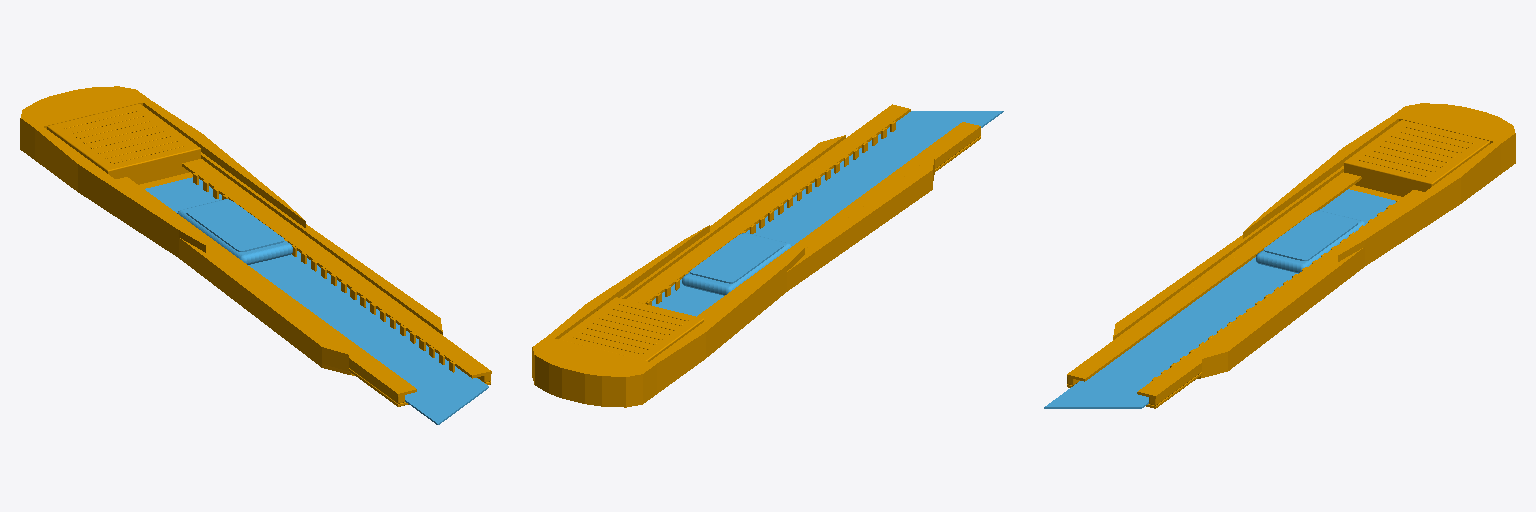
The robot description file, URDF, robot "101052":
<?xml version='1.0' encoding='utf-8'?>
<robot name="101052">
  <link name="fixed_root">
    <visual name="fixed_root_visual">
      <origin xyz="0 0 0" rpy="0 0 0" />
      <geometry>
        <mesh filename="meshes/fixed_root.obj" />
      </geometry>
    </visual>
  </link>
  <link name="link_blade_slider_translation">
    <visual name="link_blade_slider_translation_visual">
      <origin xyz="0 0 0" rpy="0 0 0" />
      <geometry>
        <mesh filename="meshes/link_blade_slider_translation.obj" />
      </geometry>
    </visual>
  </link>
  <joint name="blade_slider_translation" type="prismatic">
    <parent link="fixed_root" />
    <child link="link_blade_slider_translation" />
    <origin xyz="0 0.0949999988079 0.0161499995738" rpy="0 -0 0" />
    <axis xyz="4.25518354107e-19 1 0" />
    <limit lower="-0.0581199720315" upper="0.00968666200526" effort="1" velocity="1" />
  </joint>
</robot>

--- Facts derived from the render (not from the file) ---
Views: 3 orthographic renders of the robot side by side, from view 1: azimuth 30°, elevation 25°; view 2: azimuth 150°, elevation 25°; view 3: azimuth 330°, elevation 25°.
Model 101052 with 2 links and 1 joints (1 prismatic), rooted at fixed_root, posed every joint at zero.
Links seen in each view (by area): view 1: fixed_root, link_blade_slider_translation; view 2: fixed_root, link_blade_slider_translation; view 3: fixed_root, link_blade_slider_translation.
Boxes of the visible links, <box> form: fixed_root: <box>20,86,491,406</box>; link_blade_slider_translation: <box>145,177,488,424</box>; fixed_root: <box>532,104,980,407</box>; link_blade_slider_translation: <box>652,111,1003,316</box>; fixed_root: <box>1067,103,1515,408</box>; link_blade_slider_translation: <box>1044,189,1395,408</box>.
Bounding box of the posed robot: 0.17 × 0.975 × 0.047 m (x, y, z).
2 mesh visuals loaded from 2 distinct referenced files (2 OBJ).
